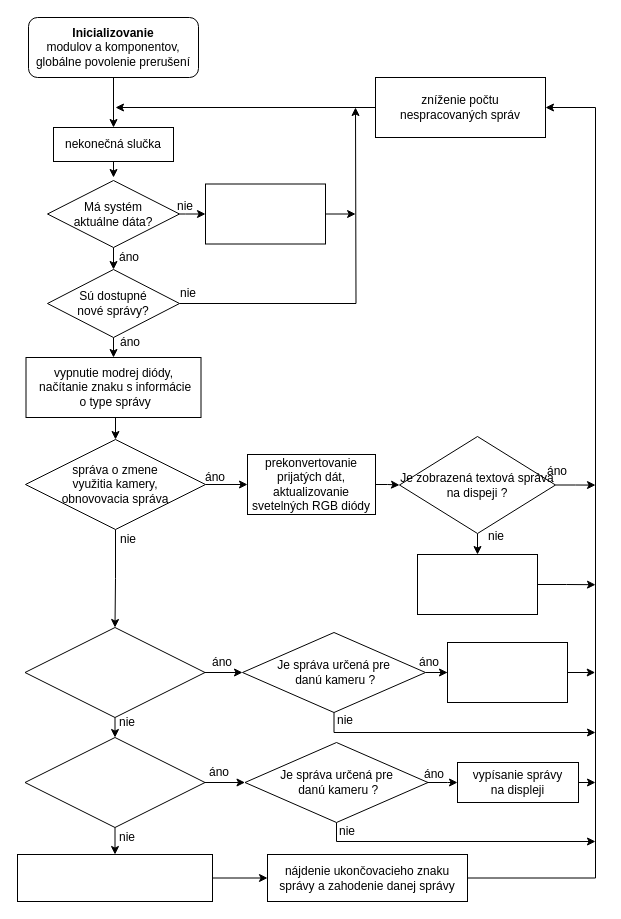
The diagram is 621 pixels wide and 919 high, and some of its shapes have lost their labels. Here are the shapes that lost their labels. From the top down, the box of each, then its label:
(204, 183, 326, 244): blikanie modrej svetelnej diódy
(416, 554, 538, 614): zobrazenie aktuálneho využitia kamier na displeji
(24, 626, 205, 718): správa s identifikátorom textového obsahu
(446, 642, 568, 702): zobrazenie preddefinovanej správy na displeji
(24, 736, 205, 828): správa s manuálne zadaným obsahu
(16, 854, 212, 902): správa určená pre režiséra alebo s neznámym identifikátorom
